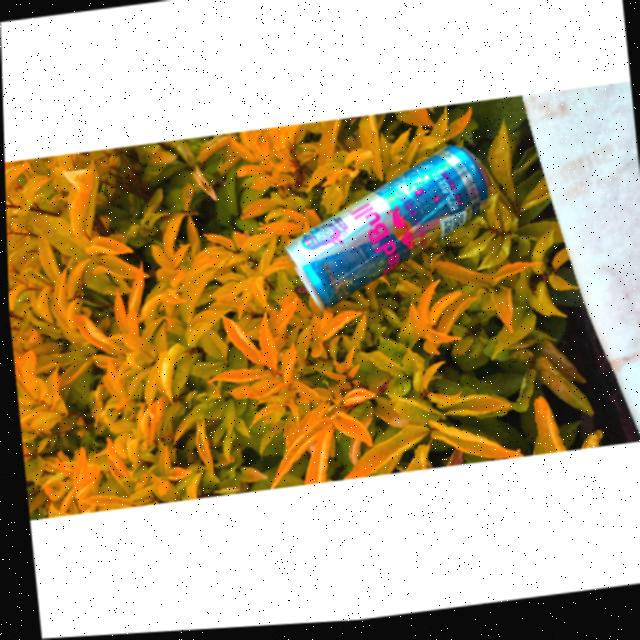Redbull DanceYourStyle: (273, 146, 491, 317)
